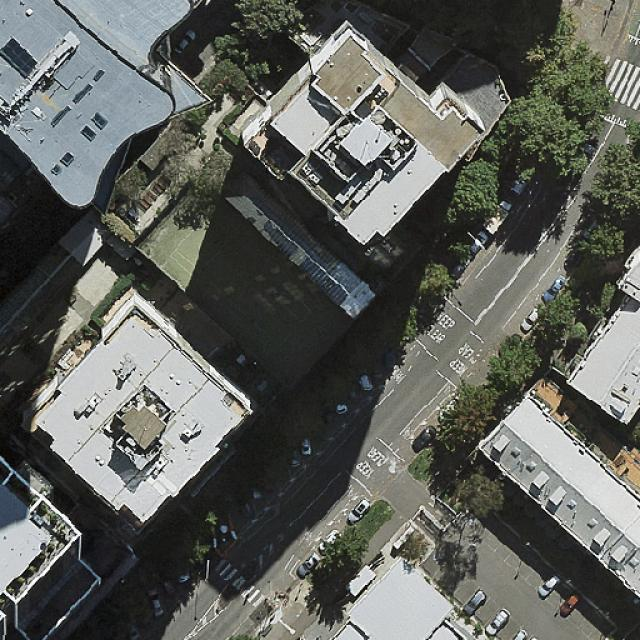Bike-Symbols: (393, 370, 404, 383), (347, 489, 355, 500), (306, 532, 313, 544)
